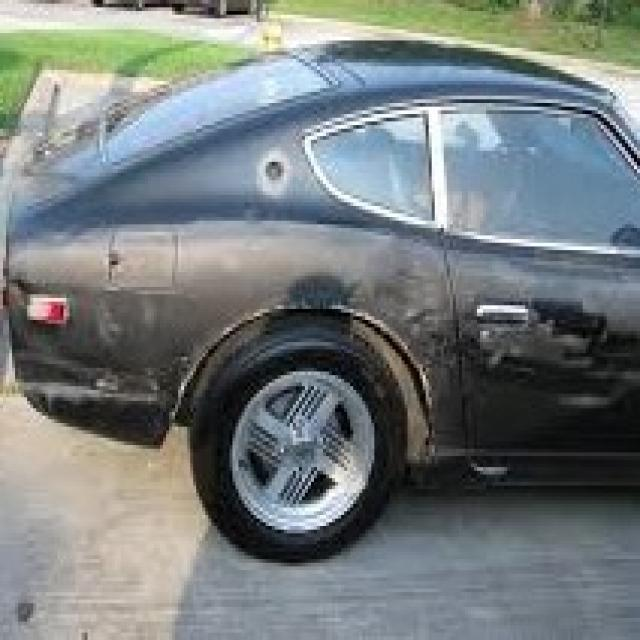minor: (247, 140, 301, 200)
